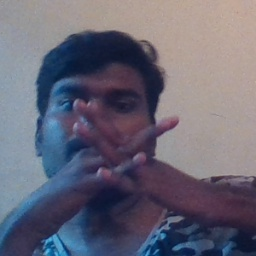W: (52, 92, 188, 208)
